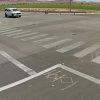Crosswalk: (6, 22, 100, 68)
